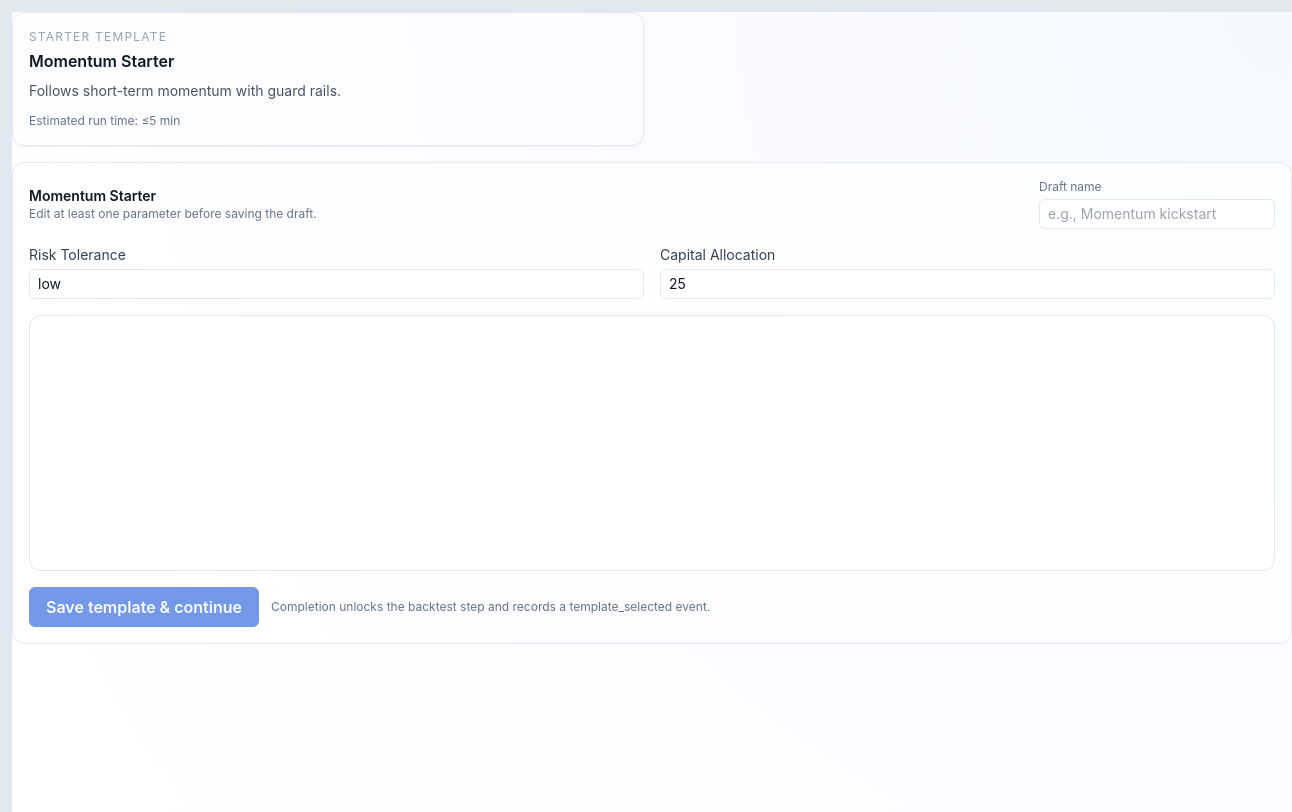
Test: TemplateStep › disables the save control until at least one parameter changes
Click the button named "Use Momentum Starter": (328, 79) [12,12,644,146]
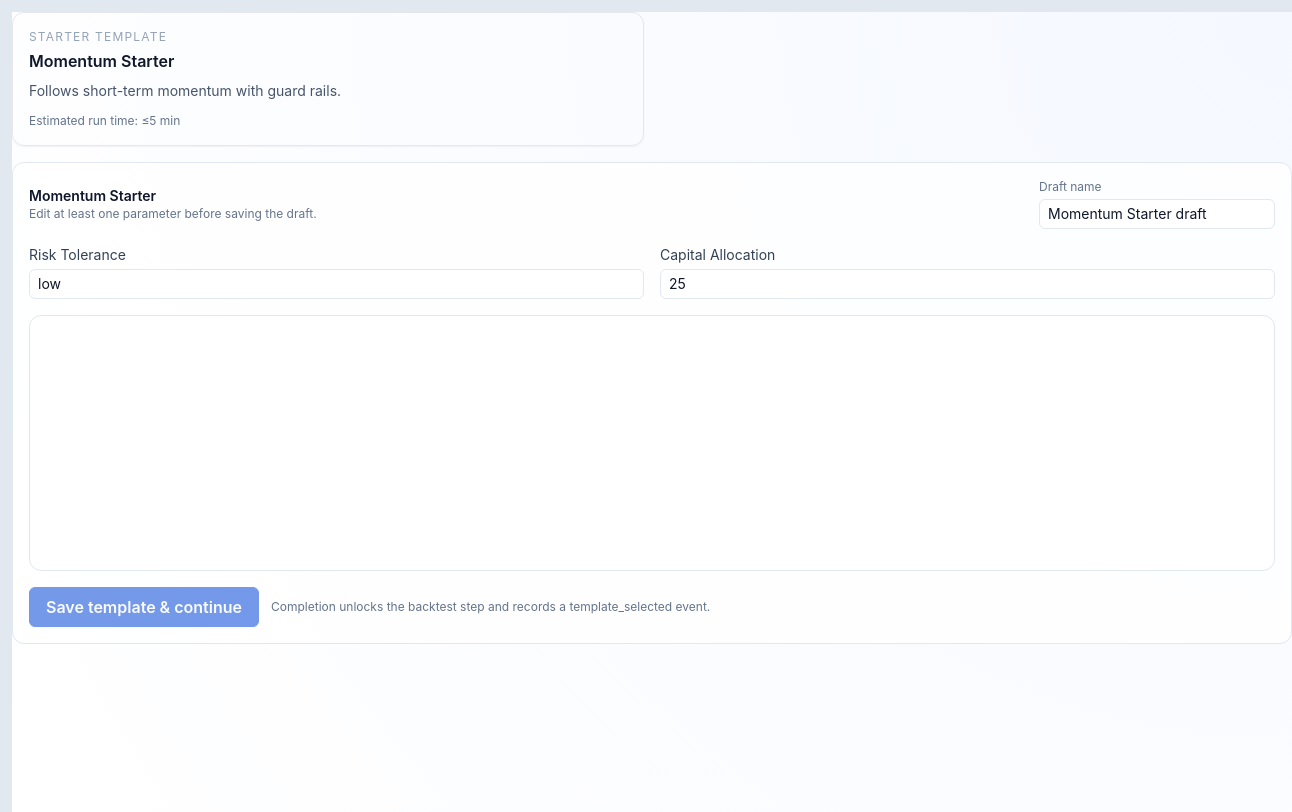
expect the button "Save template & continue" is disabled: met, box [29,587,259,627]
Replace the text in the number field labelled "Capital Allocation" with "35": (968, 284) [660,269,1275,299]
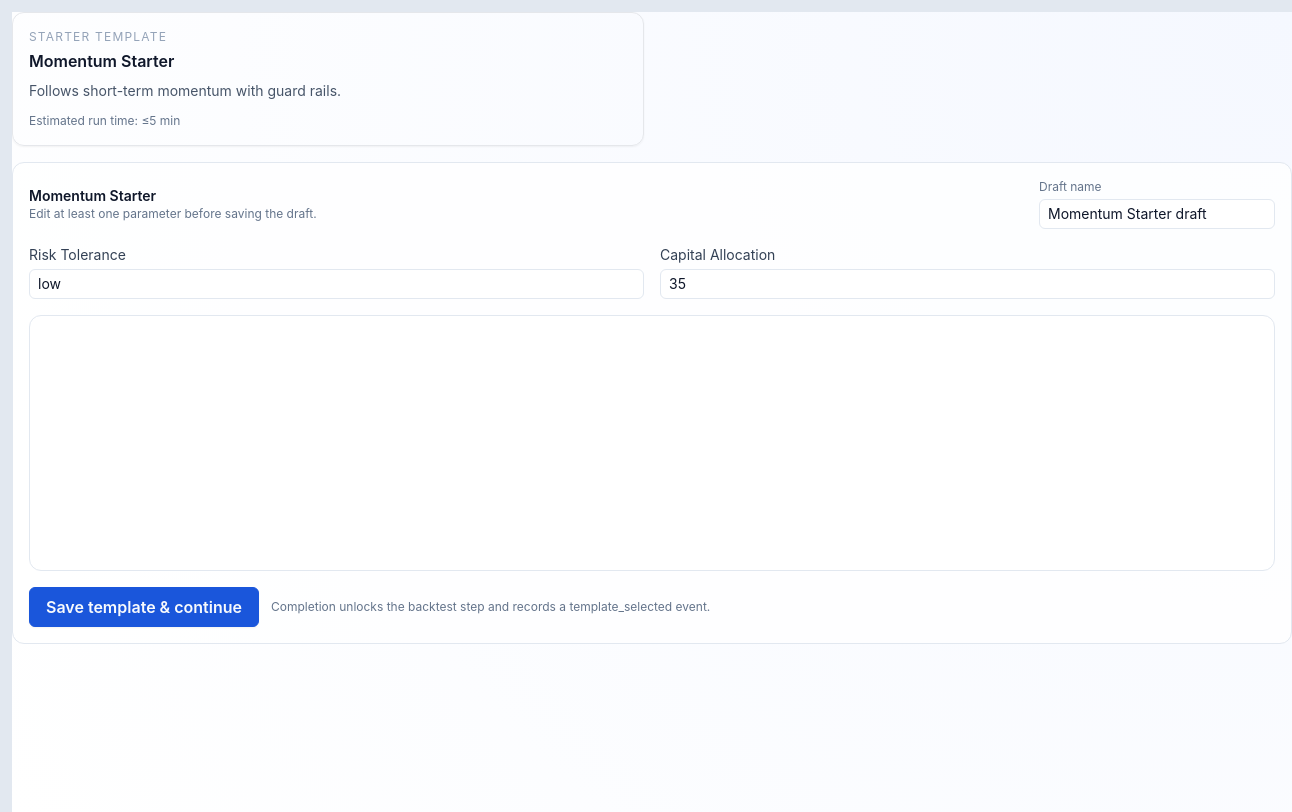
expect the button "Save template & continue" is enabled: met, box [29,587,259,627]
